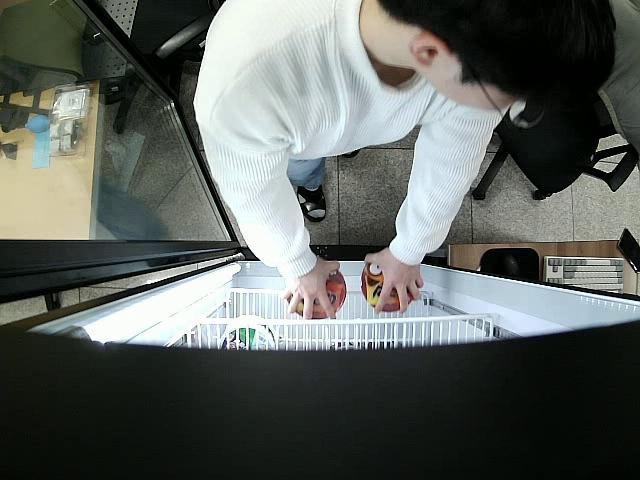05_nuguri_L: (288, 270, 346, 319), (360, 263, 418, 312)
